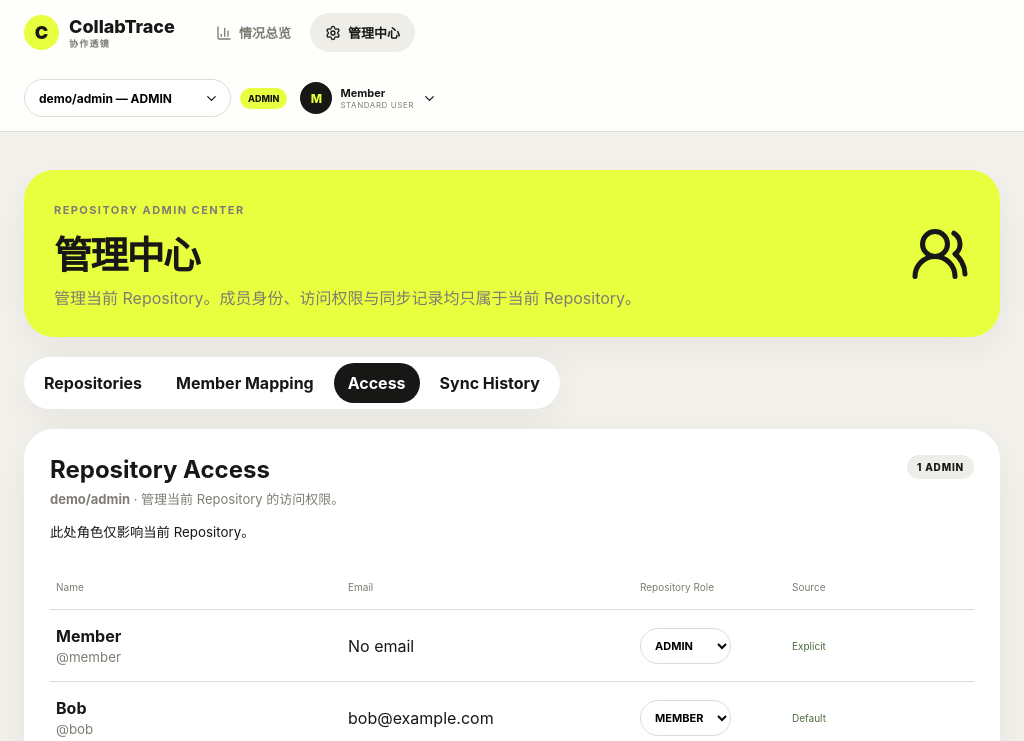
Test: repository-scoped RBAC and navigation › shows last-administrator protection feedback from the backend
Step 1. Select "MEMBER" in the dropdown named "Repository role for member" → (686, 646), box [640,628,731,664]
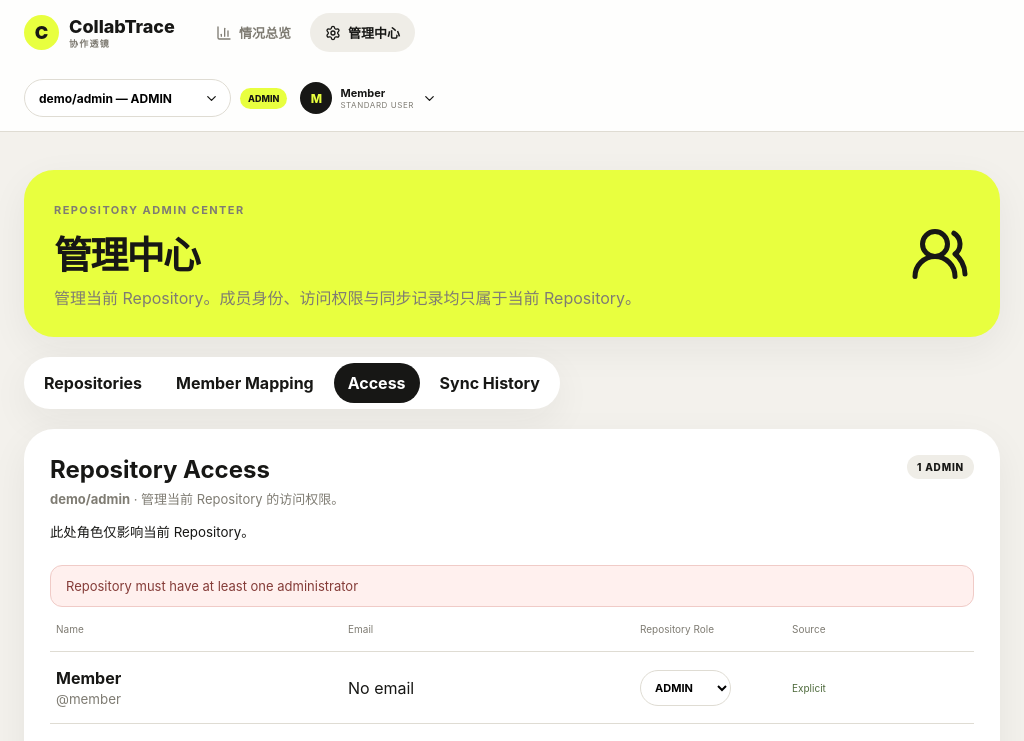
Check: the text "Repository must have at least one administrator" is shown, box [50,565,974,607]
